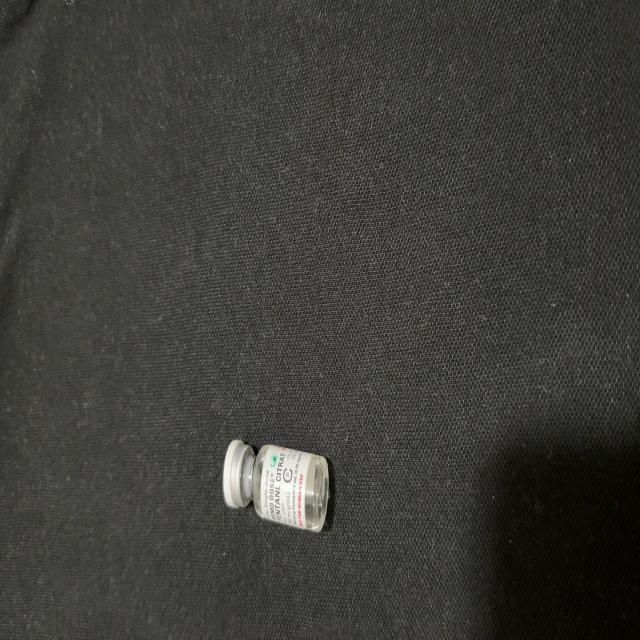fentanl_citrat: (224, 439, 330, 532)
